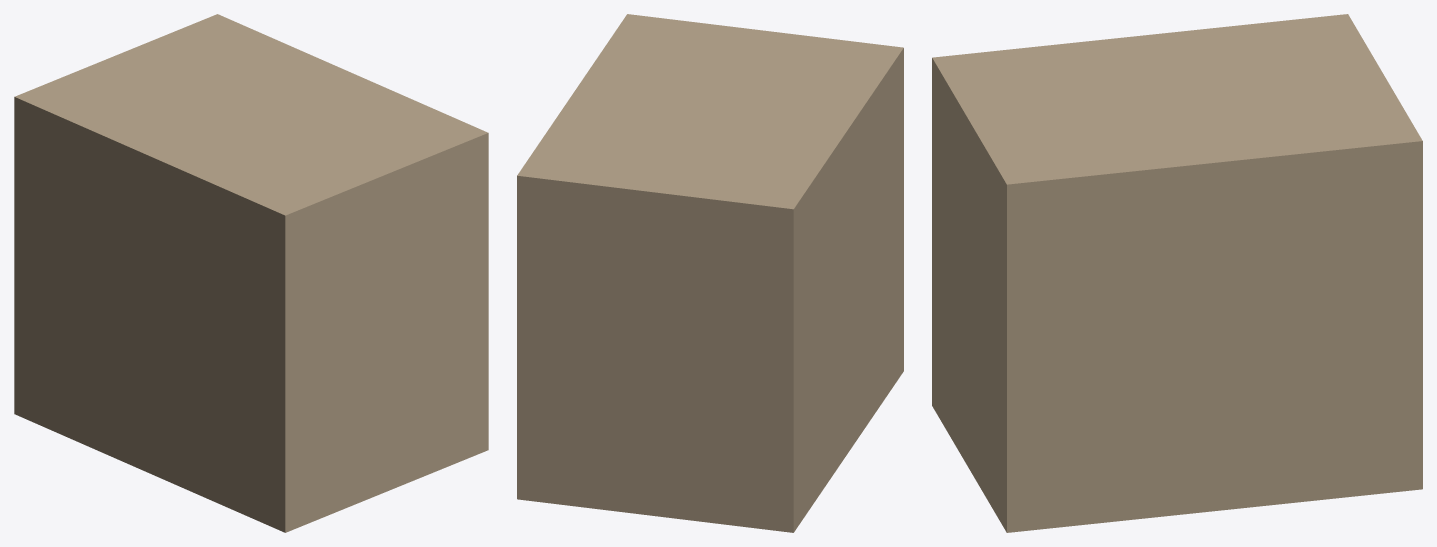
The model's file is bld_106456584.dae.
The picture shows the model from 3 angles, left to right: view 1: azimuth 30°, elevation 25°; view 2: azimuth 150°, elevation 25°; view 3: azimuth 270°, elevation 25°; orthographic projection. The views are drawn at different scales.
Visible parts, largest first — view 1: bld_106456584; view 2: bld_106456584; view 3: bld_106456584.
Part boxes in pixels (box(x1,y1,x2,y2)): bld_106456584: box(14, 14, 488, 532); bld_106456584: box(517, 14, 903, 532); bld_106456584: box(932, 14, 1422, 532).
Size of the model in its own units: 8.41 by 10.21 by 8.
